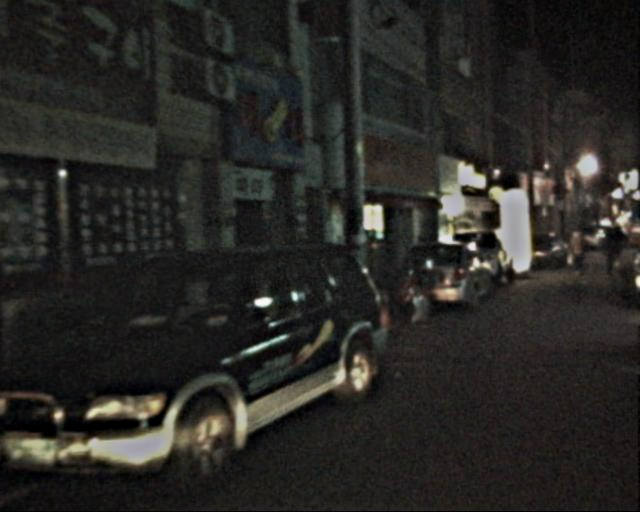person: (567, 223, 600, 281), (602, 222, 628, 272)
